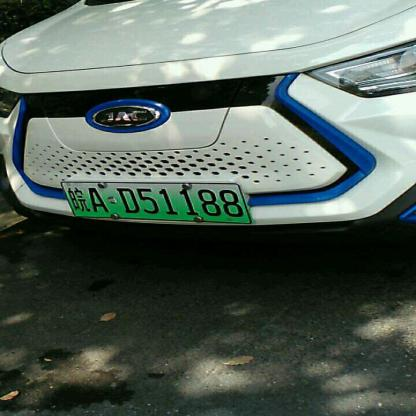lp: (61, 182, 252, 223)
